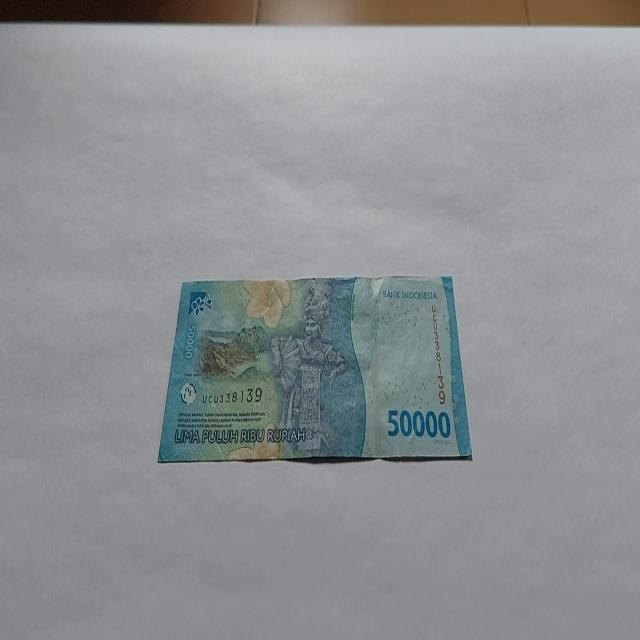lima puluh ribu rupiah: (156, 273, 472, 464)
